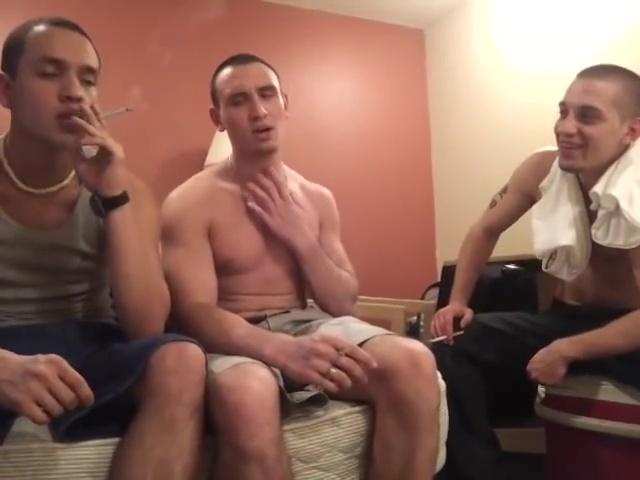cigarette: (97, 104, 137, 120), (427, 328, 467, 344)
